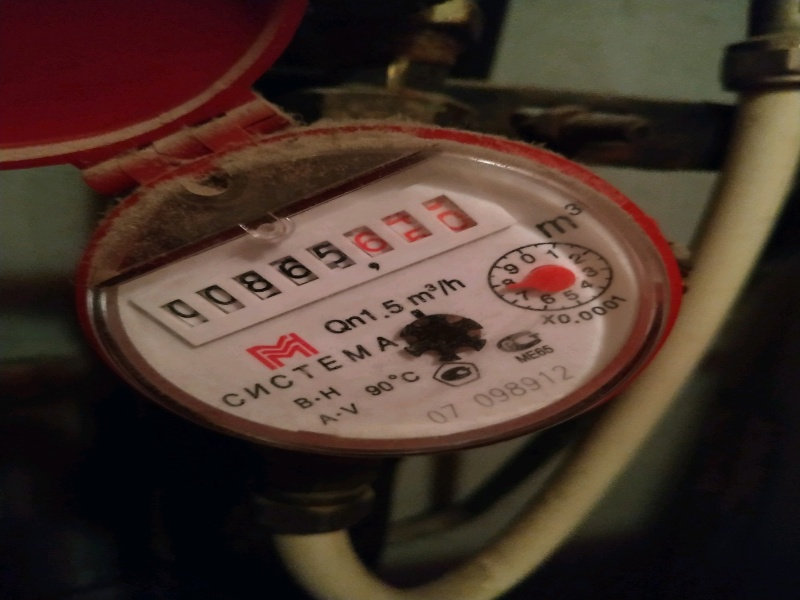meter: (144, 216, 505, 289)
